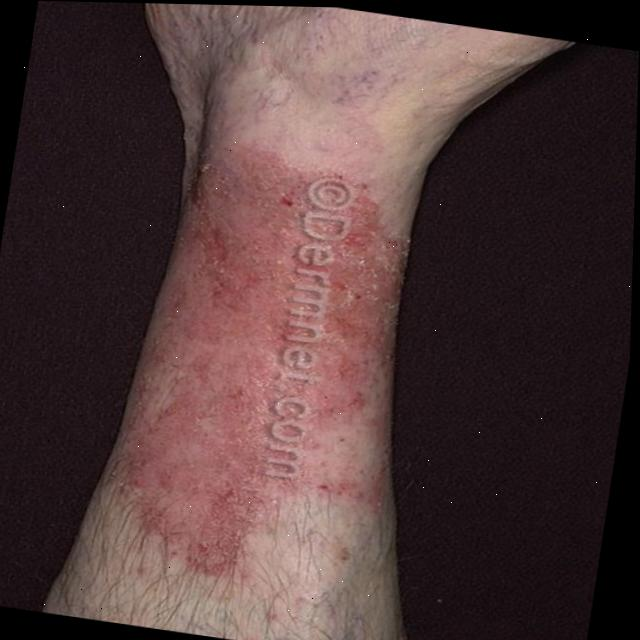Eczema: (106, 159, 397, 565)
